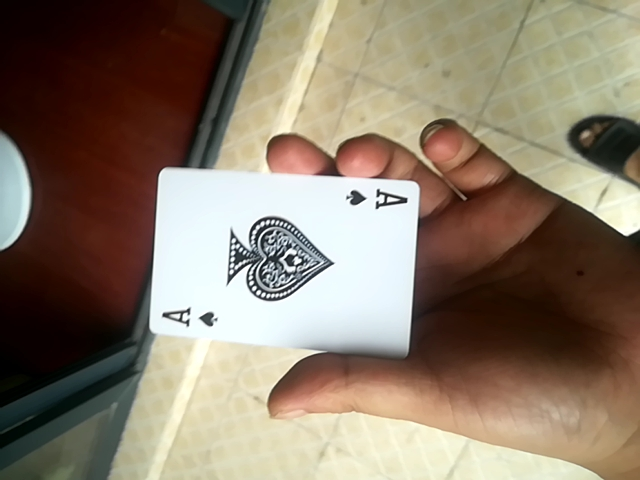ht a: (146, 164, 423, 358)
